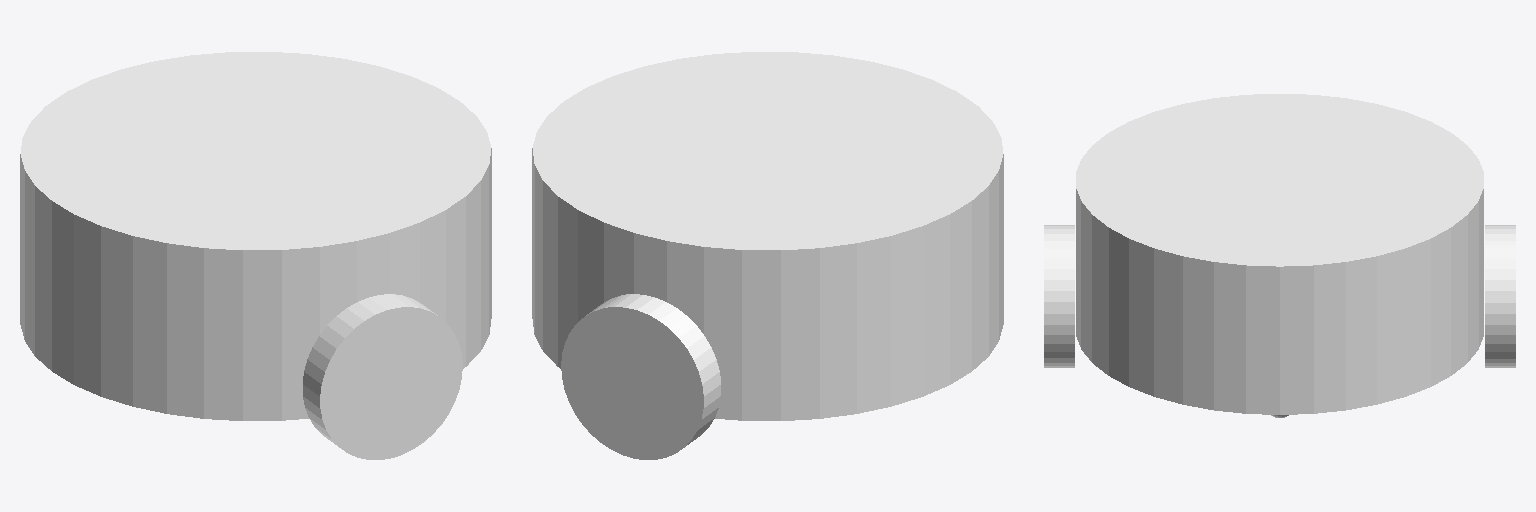
URDF robot description (urdf1_pkg):
<?xml version="1.0" encoding="utf-8"?>
<!-- This URDF was automatically created by SolidWorks to URDF Exporter! Originally created by [author] ([email redacted]) 
     Commit Version: 1.6.0-4-g7f85cfe  Build Version: 1.6.7995.38578
     For more information, please see http://wiki.ros.org/sw_urdf_exporter -->
<robot
  name="urdf1_pkg">
  <link name="dummy">
  </link>
  <joint name="dummy_joint" type="fixed">
    <parent link="dummy"/>
    <child link="base_link"/>
  </joint>
  
  
  <link
    name="base_link">
    <inertial>
      <origin
        xyz="-1.7945E-17 0 0.0225"
        rpy="0 0 0" />
      <mass
        value="2.5133" />
      <inertia
        ixx="0.0076236"
        ixy="1.0719E-50"
        ixz="-2.7271E-18"
        iyy="0.0076236"
        iyz="-1.9427E-35"
        izz="0.012566" />
    </inertial>
    <visual>
      <origin
        xyz="0 0 0"
        rpy="0 0 0" />
      <geometry>
        <mesh
          filename="package://urdf1_pkg/meshes/base_link.STL" />
      </geometry>
      <material
        name="">
        <color
          rgba="1 1 1 1" />
      </material>
    </visual>
    <collision>
      <origin
        xyz="0 0 0"
        rpy="0 0 0" />
      <geometry>
        <mesh
          filename="package://urdf1_pkg/meshes/base_link.STL" />
      </geometry>
    </collision>
  </link>
  
  
  
  <link
    name="right">
    <inertial>
      <origin
        xyz="-3.6088E-19 6.9389E-18 -0.0075"
        rpy="0 0 0" />
      <mass
        value="0.057727" />
      <inertia
        ixx="1.8761E-05"
        ixy="-4.272E-38"
        ixz="-1.8053E-23"
        iyy="1.8761E-05"
        iyz="6.6704E-22"
        izz="3.5358E-05" />
    </inertial>
    <visual>
      <origin
        xyz="0 0 0"
        rpy="0 0 0" />
      <geometry>
        <mesh
          filename="package://urdf1_pkg/meshes/right.STL" />
      </geometry>
      <material
        name="">
        <color
          rgba="1 1 1 1" />
      </material>
    </visual>
    <collision>
      <origin
        xyz="0 0 0"
        rpy="0 0 0" />
      <geometry>
        <mesh
          filename="package://urdf1_pkg/meshes/right.STL" />
      </geometry>
    </collision>
  </link>
  
  
  
  
  
  
  <joint
    name="base_r_wheel_joint"
    type="continuous">
    <origin
      xyz="0 -0.115 0"
      rpy="1.5707963267949 0 0" />
    <parent
      link="base_link" />
    <child
      link="right" />
    <axis
      xyz="0 0 1" />
  </joint>
  
  
  
  
  <link
    name="left">
    <inertial>
      <origin
        xyz="-2.6797E-19 3.4694E-18 0.0075"
        rpy="0 0 0" />
      <mass
        value="0.057727" />
      <inertia
        ixx="1.8761E-05"
        ixy="-1.747E-21"
        ixz="8.1084E-24"
        iyy="1.8761E-05"
        iyz="6.3683E-22"
        izz="3.5358E-05" />
    </inertial>
    <visual>
      <origin
        xyz="0 0 0"
        rpy="0 0 0" />
      <geometry>
        <mesh
          filename="package://urdf1_pkg/meshes/left.STL" />
      </geometry>
      <material
        name="">
        <color
          rgba="1 1 1 1" />
      </material>
    </visual>
    <collision>
      <origin
        xyz="0 0 0"
        rpy="0 0 0" />
      <geometry>
        <mesh
          filename="package://urdf1_pkg/meshes/left.STL" />
      </geometry>
    </collision>
  </link>
  
  
  
  
  <joint
    name="base_l_wheel_joint"
    type="continuous">
    <origin
      xyz="0 0.115 0"
      rpy="1.5707963267949 0 0" />
    <parent
      link="base_link" />
    <child
      link="left" />
    <axis
      xyz="0 0 1" />
  </joint>
  <link
    name="front">
    <inertial>
      <origin
        xyz="0 -2.3404E-19 0"
        rpy="0 0 0" />
      <mass
        value="0.0017671" />
      <inertia
        ixx="3.9761E-08"
        ixy="2.8689E-24"
        ixz="-3.229E-24"
        iyy="3.9761E-08"
        iyz="-4.2493E-24"
        izz="3.9761E-08" />
    </inertial>
    <visual>
      <origin
        xyz="0 0 0"
        rpy="0 0 0" />
      <geometry>
        <mesh
          filename="package://urdf1_pkg/meshes/front.STL" />
      </geometry>
      <material
        name="">
        <color
          rgba="1 1 1 1" />
      </material>
    </visual>
    <collision>
      <origin
        xyz="0 0 0"
        rpy="0 0 0" />
      <geometry>
        <mesh
          filename="package://urdf1_pkg/meshes/front.STL" />
      </geometry>
    </collision>
  </link>
  <joint
    name="f_driven"
    type="continuous">
    <origin
      xyz="0.07 0 -0.025"
      rpy="0 0 0" />
    <parent
      link="base_link" />
    <child
      link="front" />
    <axis
      xyz="1 1 1" />
  </joint>
  <link
    name="back">
    <inertial>
      <origin
        xyz="0 1.1702E-19 8.6736E-19"
        rpy="0 0 0" />
      <mass
        value="0.0017671" />
      <inertia
        ixx="3.9761E-08"
        ixy="2.0466E-24"
        ixz="-4.9043E-24"
        iyy="3.9761E-08"
        iyz="-3.4696E-24"
        izz="3.9761E-08" />
    </inertial>
    <visual>
      <origin
        xyz="0 0 0"
        rpy="0 0 0" />
      <geometry>
        <mesh
          filename="package://urdf1_pkg/meshes/back.STL" />
      </geometry>
      <material
        name="">
        <color
          rgba="1 1 1 1" />
      </material>
    </visual>
    <collision>
      <origin
        xyz="0 0 0"
        rpy="0 0 0" />
      <geometry>
        <mesh
          filename="package://urdf1_pkg/meshes/back.STL" />
      </geometry>
    </collision>
  </link>
  <joint
    name="back_driven"
    type="continuous">
    <origin
      xyz="-0.07 0 -0.025"
      rpy="0 0 0" />
    <parent
      link="base_link" />
    <child
      link="back" />
    <axis
      xyz="1 1 1" />
  </joint>

  <gazebo reference="dummy">
        <material>Gazebo/Black</material>
    </gazebo>
</robot>

--- Facts derived from the render (not from the file) ---
Views: 3 orthographic renders of the robot side by side, from view 1: azimuth 30°, elevation 25°; view 2: azimuth 150°, elevation 25°; view 3: azimuth 270°, elevation 25°.
Robot: urdf1_pkg — 6 links, 5 joints (4 continuous, 1 fixed); root link dummy; default pose: all joints at 0.
Links seen in each view (by area): view 1: base_link, right; view 2: base_link, left; view 3: base_link, right, left.
Boxes of the visible links, x1,y1,x2,y2 form: base_link: (20, 52, 491, 420); right: (303, 294, 462, 459); base_link: (532, 52, 1003, 420); left: (561, 294, 720, 459); base_link: (1076, 94, 1483, 414); right: (1044, 225, 1074, 367); left: (1485, 225, 1515, 367).
Bounding box of the posed robot: 0.2 × 0.23 × 0.0975 m (x, y, z).
5 mesh visuals loaded from 5 distinct referenced files (5 binary STL).